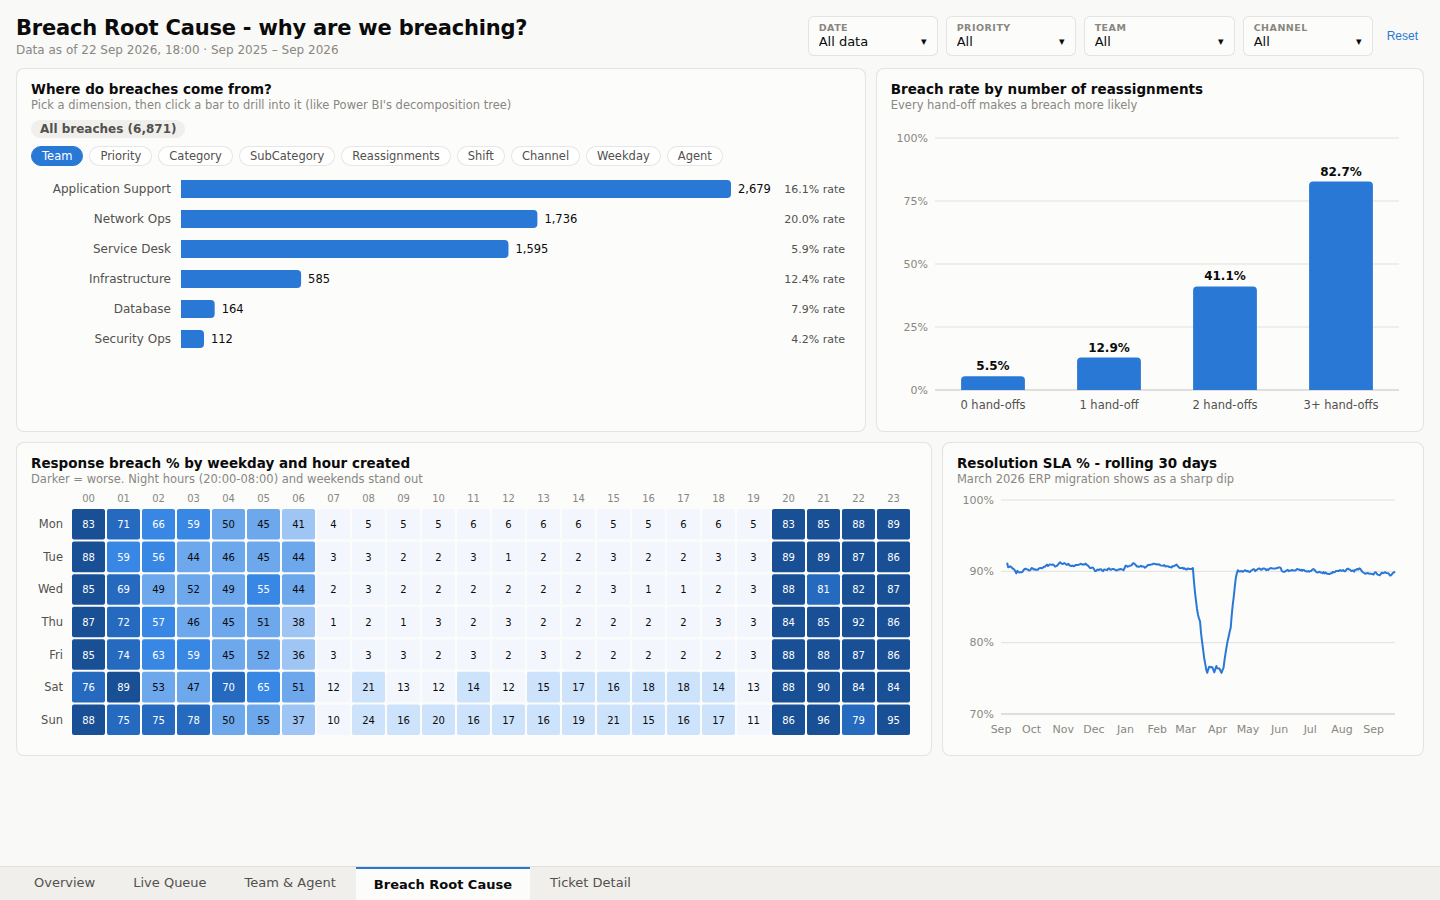

The dashboard page shown, as its layout file describes it:
{"tool":"powerbi","page":{"name":"Breach Root Cause","canvas":[1280,764],"ordinal":3},"visuals":[{"type":"pageNavigator","box":[16,8,1248,34],"z":1000},{"type":"textbox","box":[12,44,640,46],"z":2000},{"type":"cardVisual","fields":{"Data":["_Measures.As Of Label"]},"box":[12,82,560,30],"z":3000},{"type":"slicer","fields":{"Values":["DimDate.Date"]},"box":[684,46,240,66],"z":4000},{"type":"slicer","fields":{"Values":["DimPriority.Priority"]},"box":[934,46,150,66],"z":5000},{"type":"slicer","fields":{"Values":["DimTeam.Team"]},"box":[1094,46,170,66],"z":6000},{"type":"decompositionTreeVisual","title":"Breached tickets - click + to break down (try Team > Priority > Reassignment Band)","fields":{"Analyze":["_Measures.Breached Tickets"],"ExplainBy":["DimTeam.Team","DimPriority.PriorityShort","DimCategory.SubCategory","FactTickets.Reassignment Band","FactTickets.Shift","FactTickets.Channel","DimDate.DayName"]},"box":[16,120,760,330],"z":7000},{"type":"clusteredColumnChart","title":"Breach rate by number of reassignments","fields":{"Category":["FactTickets.Reassignment Band"],"Y":["_Measures.Breach Rate %"]},"box":[786,120,478,330],"z":8000},{"type":"pivotTable","title":"Response breach % by weekday and hour created (darker = worse)","fields":{"Columns":["FactTickets.CreatedHour"],"Rows":["DimDate.DayName"],"Values":["_Measures.Response Breach %"]},"box":[16,460,880,296],"z":9000},{"type":"lineChart","title":"Resolution SLA % - rolling 30 days","fields":{"Category":["DimDate.Date"],"Y":["_Measures.Resolution SLA % 30D"]},"box":[906,460,358,296],"z":10000}]}

Visuals, with their boxes on the page's 1280x764 design canvas (x1, y1, x2, y2). These are canvas units, not pixel positions in the 1440x900 screenshot, which may show the page scaled, cropped or inside an application window:
pageNavigator: 16,8,1264,42
textbox: 12,44,652,90
cardVisual - _Measures.As Of Label: 12,82,572,112
slicer - DimDate.Date: 684,46,924,112
slicer - DimPriority.Priority: 934,46,1084,112
slicer - DimTeam.Team: 1094,46,1264,112
"Breached tickets - click + to break down (try Team > Priority > Reassignment Band)" decompositionTreeVisual: 16,120,776,450
"Breach rate by number of reassignments" clusteredColumnChart: 786,120,1264,450
"Response breach % by weekday and hour created (darker = worse)" pivotTable: 16,460,896,756
"Resolution SLA % - rolling 30 days" lineChart: 906,460,1264,756
